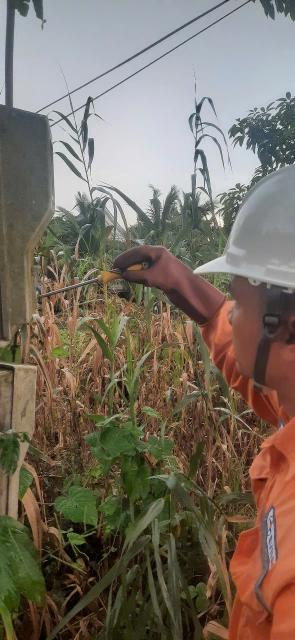gloves: (108, 239, 229, 336)
helmet: (200, 156, 295, 318)
